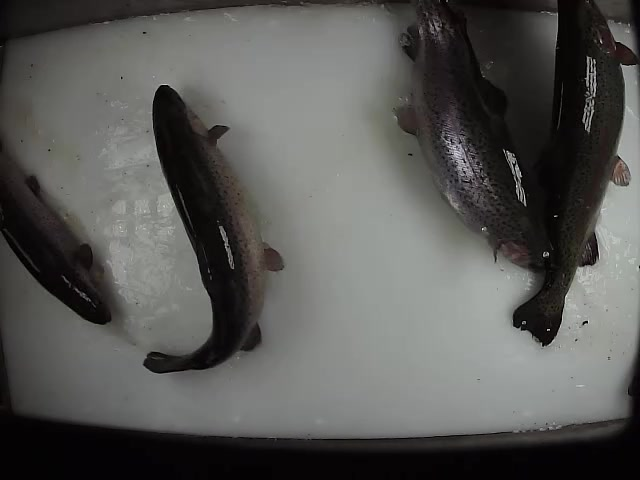fish: (141, 82, 286, 375)
